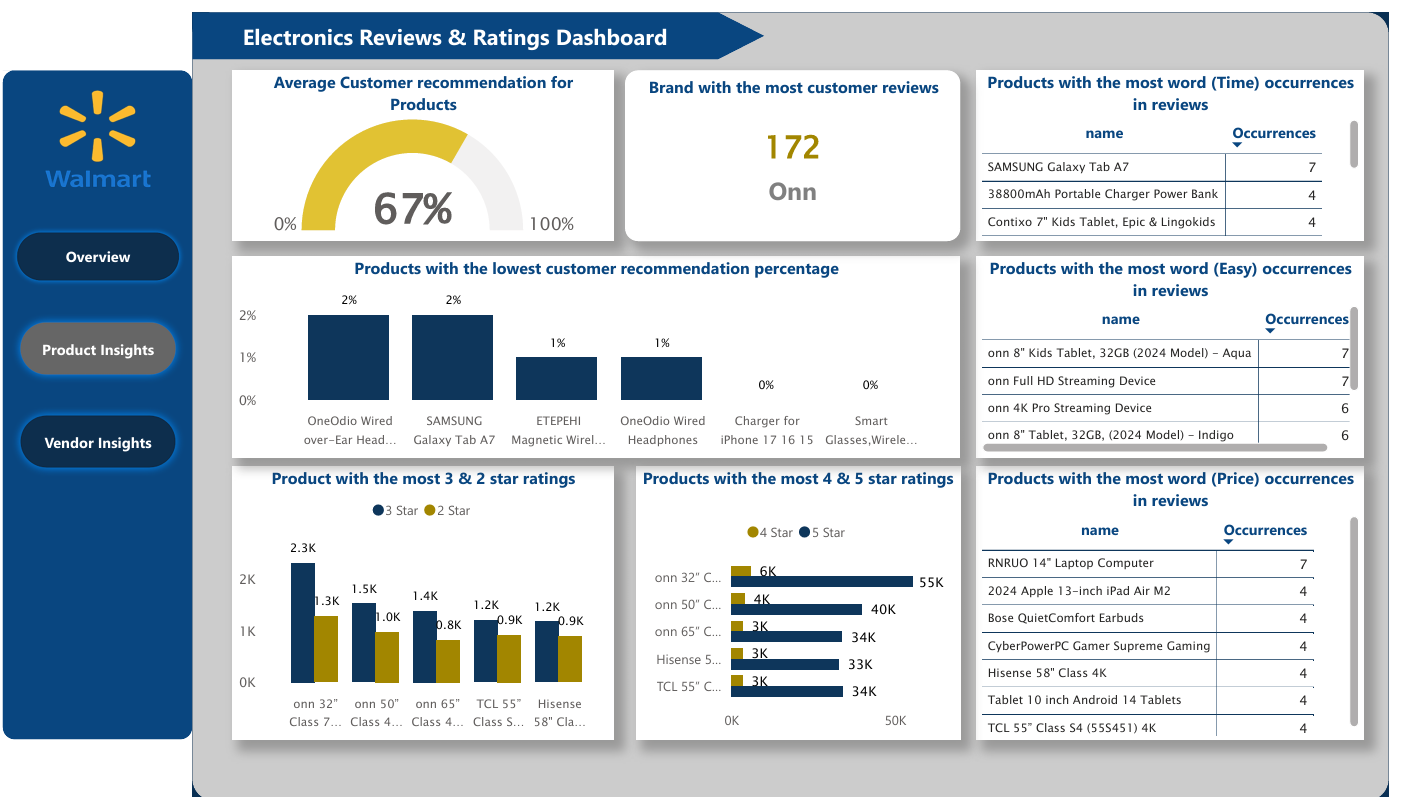

What the dashboard file says about the page in this screenshot:
{"tool":"powerbi","page":{"name":"Product Insights","canvas":[1280,720],"ordinal":1},"visuals":[{"type":"shape","box":[15.2,52.8,172.8,611.6],"z":0},{"type":"shape","box":[188,0,1092,720],"z":1000},{"type":"shape","box":[188.1,0,522.1,43],"z":2000},{"type":"pageNavigator","box":[23.3,196.1,157.6,53.7],"z":3000},{"type":"pageNavigator","box":[23.3,274.9,157.6,63.6],"z":4000},{"type":"pageNavigator","box":[23.3,360,157.6,63.6],"z":5000},{"type":"image","box":[8.1,66.3,188.1,108.4],"z":6000},{"type":"pivotTable","title":"Products with the most word (Time) occurrences  in reviews","fields":{"Rows":["Product.name"],"Values":["Orders.Time_Occurrences"]},"box":[904.1,53,353.7,156.1],"z":7000},{"type":"pivotTable","title":"Products with the most word (Price) occurrences  in reviews","fields":{"Rows":["Product.name"],"Values":["Orders.Price_Occurrences"]},"box":[904.1,415.4,353.7,249.6],"z":8000},{"type":"pivotTable","title":"Products with the most word (Easy) occurrences  in reviews","fields":{"Rows":["Product.name"],"Values":["Orders.Easy_Occurrences"]},"box":[904.1,222.7,353.7,184.1],"z":9000},{"type":"clusteredColumnChart","title":"Product with the most 3 & 2 star ratings","fields":{"Y":["Sum(Product.ThreeStarRatings)","Sum(Product.TwoStarRatings)"],"Category":["Product.name"]},"box":[224.6,415.4,348.9,249.6],"z":10000},{"type":"gauge","title":"Average Customer recommendation for Products","fields":{"Y":["Avg(Product.RecommendPercent_Decimal)"]},"box":[224.6,53,348.9,156.1],"z":11000},{"type":"clusteredBarChart","title":"Products with the most 4 & 5 star ratings ","fields":{"Y":["Sum(Product.FourStarRatings)","Sum(Product.FiveStarRatings)"],"Category":["Product.name","Seller.sellerDisplayName"]},"box":[592.8,415.4,295.9,249.6],"z":12000},{"type":"clusteredColumnChart","title":"Products with the lowest customer recommendation percentage","fields":{"Category":["Product.name"],"Y":["Sum(Product.RecommendPercent_Decimal)"]},"box":[224.6,222.7,664.1,184.1],"z":13000},{"type":"card","title":"Brand with the most customer reviews","fields":{"Values":["CountNonNull(Orders.ProductId)"]},"box":[583.1,53,305.5,156.1],"z":14000}]}

Visuals, with their boxes in screenshot pixels (x1, y1, x2, y2):
shape: <region>2, 79, 189, 741</region>
shape: <region>189, 22, 1370, 796</region>
shape: <region>189, 22, 754, 68</region>
pageNavigator: <region>11, 234, 181, 292</region>
pageNavigator: <region>11, 319, 181, 388</region>
pageNavigator: <region>11, 411, 181, 480</region>
image: <region>0, 94, 198, 211</region>
"Products with the most word (Time) occurrences  in reviews" pivotTable: <region>963, 79, 1346, 248</region>
"Products with the most word (Price) occurrences  in reviews" pivotTable: <region>963, 471, 1346, 741</region>
"Products with the most word (Easy) occurrences  in reviews" pivotTable: <region>963, 263, 1346, 462</region>
"Product with the most 3 & 2 star ratings" clusteredColumnChart: <region>228, 471, 606, 741</region>
"Average Customer recommendation for Products" gauge: <region>228, 79, 606, 248</region>
"Products with the most 4 & 5 star ratings " clusteredBarChart: <region>627, 471, 947, 741</region>
"Products with the lowest customer recommendation percentage" clusteredColumnChart: <region>228, 263, 947, 462</region>
"Brand with the most customer reviews" card: <region>616, 79, 947, 248</region>
